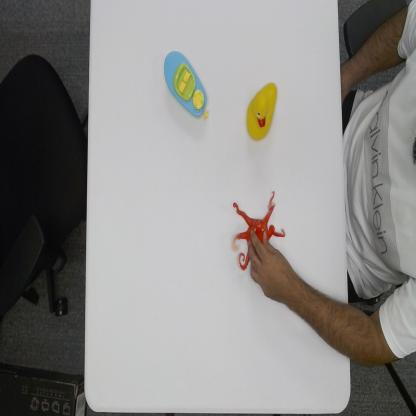Arm: (295, 265, 396, 370)
Boat: (164, 49, 210, 120)
Duck: (245, 80, 278, 143)
Hand: (247, 229, 294, 306)
Octopus: (230, 190, 286, 272)
